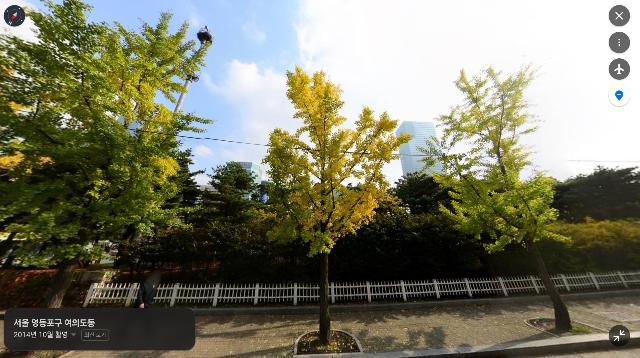ginkgo: (262, 64, 413, 346)
other: (0, 0, 215, 308), (417, 59, 573, 333), (193, 159, 267, 283)
